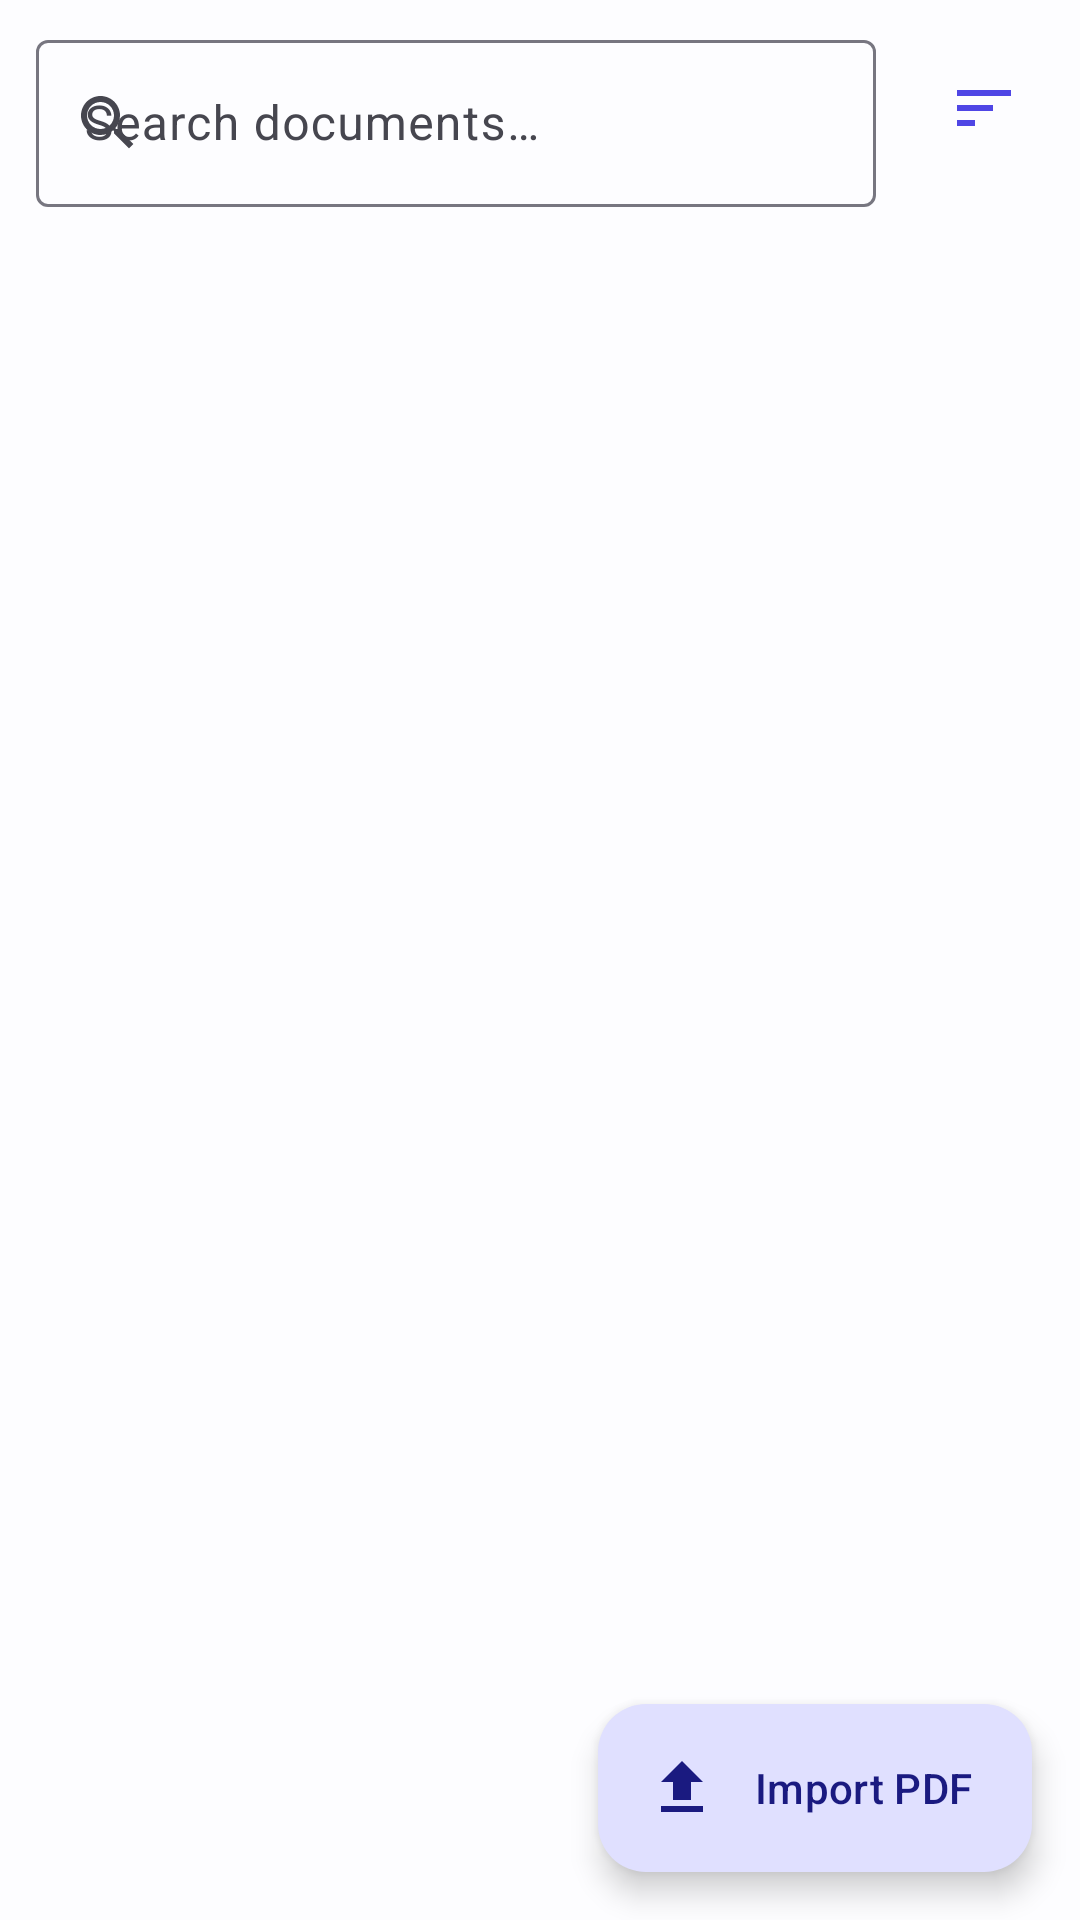

Point at icon controls on the screen. Image size 1080 x 1920, points as [x,y].
Sort: [984,108]
